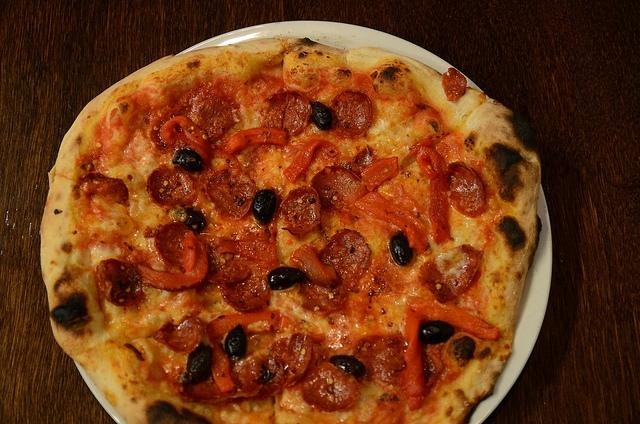bell pepper: (354, 191, 428, 254), (138, 230, 208, 292), (398, 308, 432, 412), (416, 146, 451, 245), (283, 138, 338, 184), (160, 116, 211, 165), (207, 309, 280, 341), (290, 245, 339, 287), (218, 127, 288, 155), (360, 156, 400, 192), (211, 342, 238, 392)
